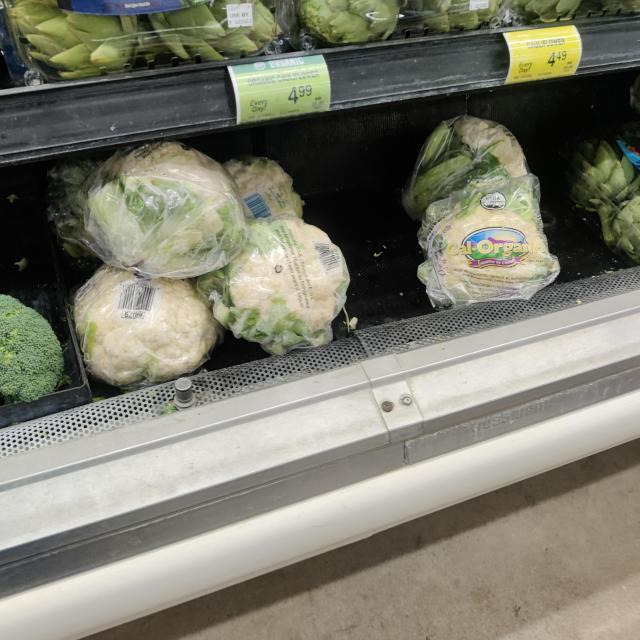Broccoli: (0, 294, 66, 402)
Cauliflower: (53, 139, 251, 276), (197, 219, 351, 353), (74, 266, 224, 391), (425, 172, 562, 300), (404, 116, 532, 221)
